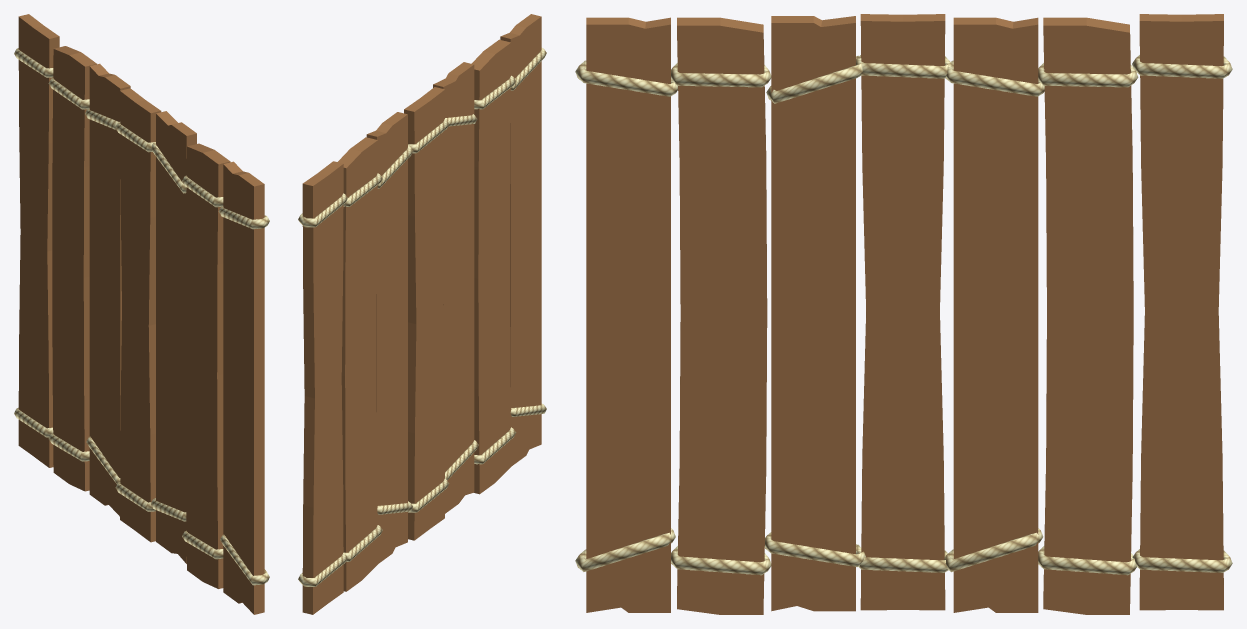
Rendered from H_Wall_01.fbx.
The picture shows the model from 3 angles, left to right: view 1: azimuth 30°, elevation 25°; view 2: azimuth 150°, elevation 25°; view 3: azimuth 270°, elevation 25°; orthographic projection. The views are drawn at different scales.
Parts seen in each view (by area): view 1: H_Wall; view 2: H_Wall; view 3: H_Wall.
Part boxes in pixels (x1=…): H_Wall: x1=14, y1=14, x2=269, y2=614; H_Wall: x1=298, y1=14, x2=546, y2=614; H_Wall: x1=575, y1=14, x2=1232, y2=614.
Size of the model in its own units: 15.85 by 302 by 303.
